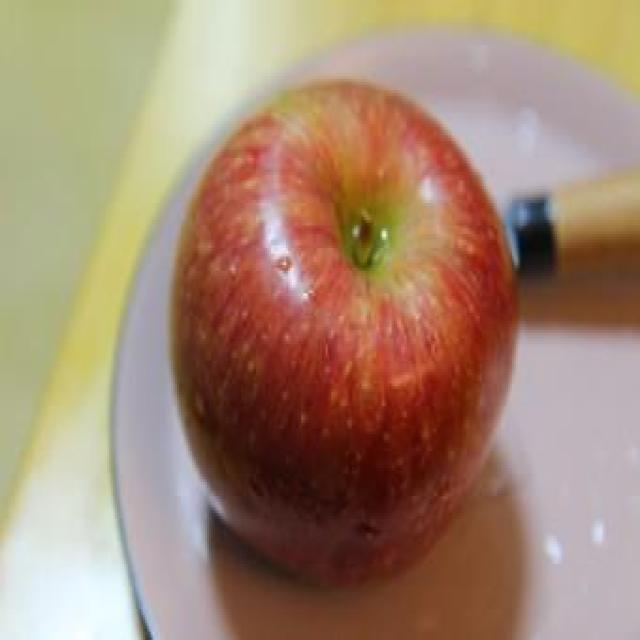apple: (166, 73, 520, 590)
